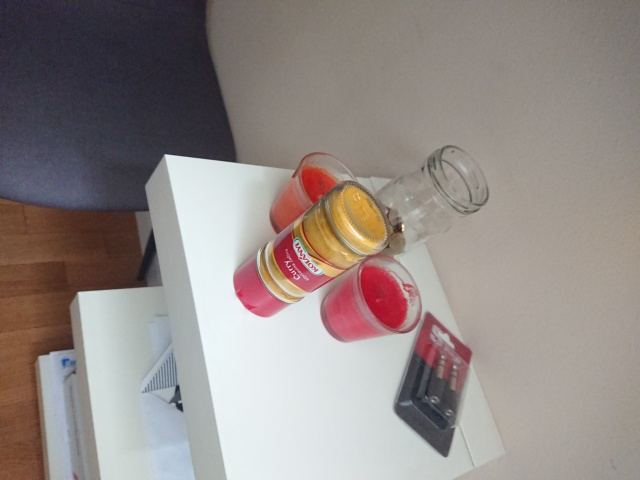Kotanyi Curry Spices Mix 70g: (230, 178, 394, 320)
